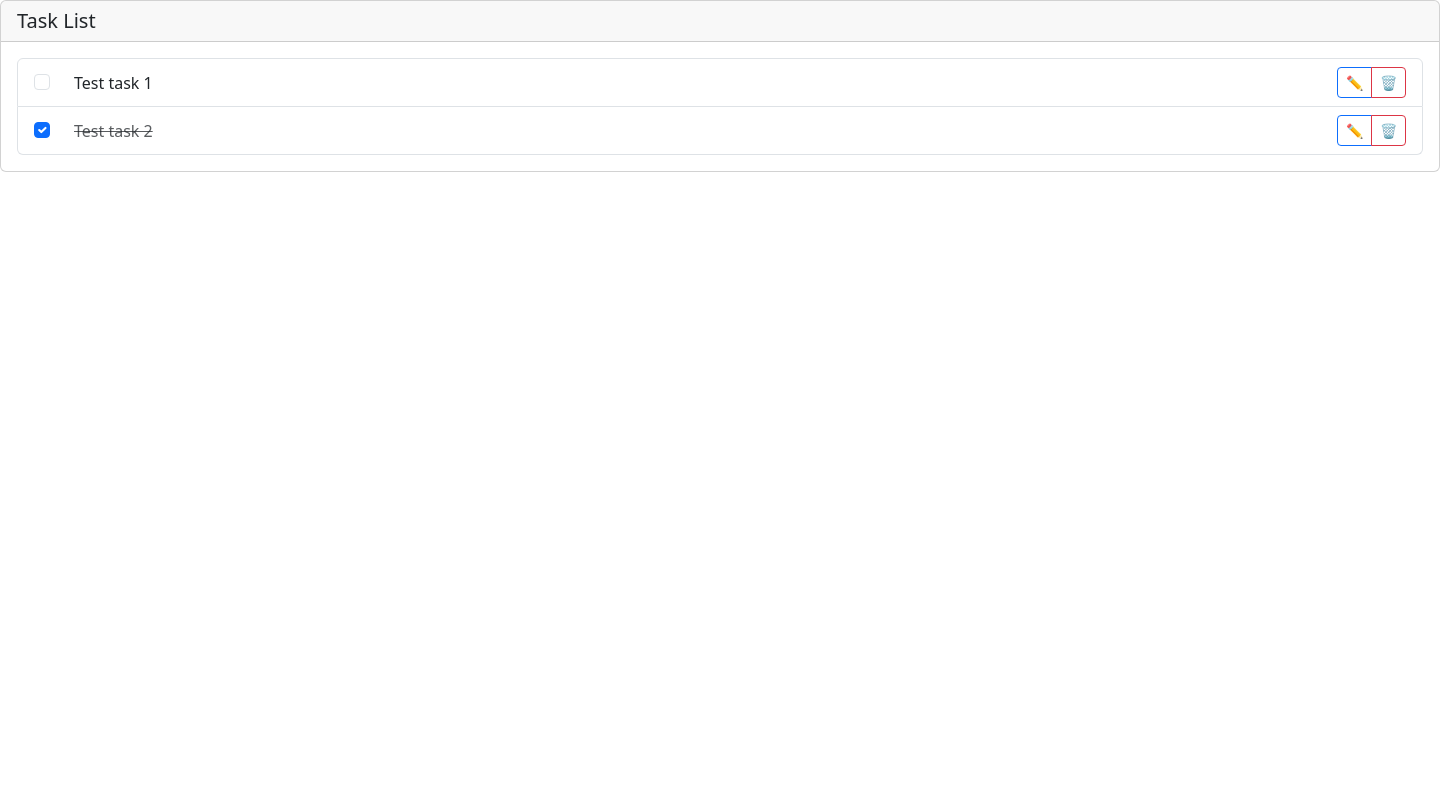
Scenario: TaskList › Edit Functionality › should open edit modal when edit button is clicked
// Click edit button to open modal
Click the button titled "Edit task" in the row of "Test task 1".
click(1354, 82)  # box [1337,67,1372,98]
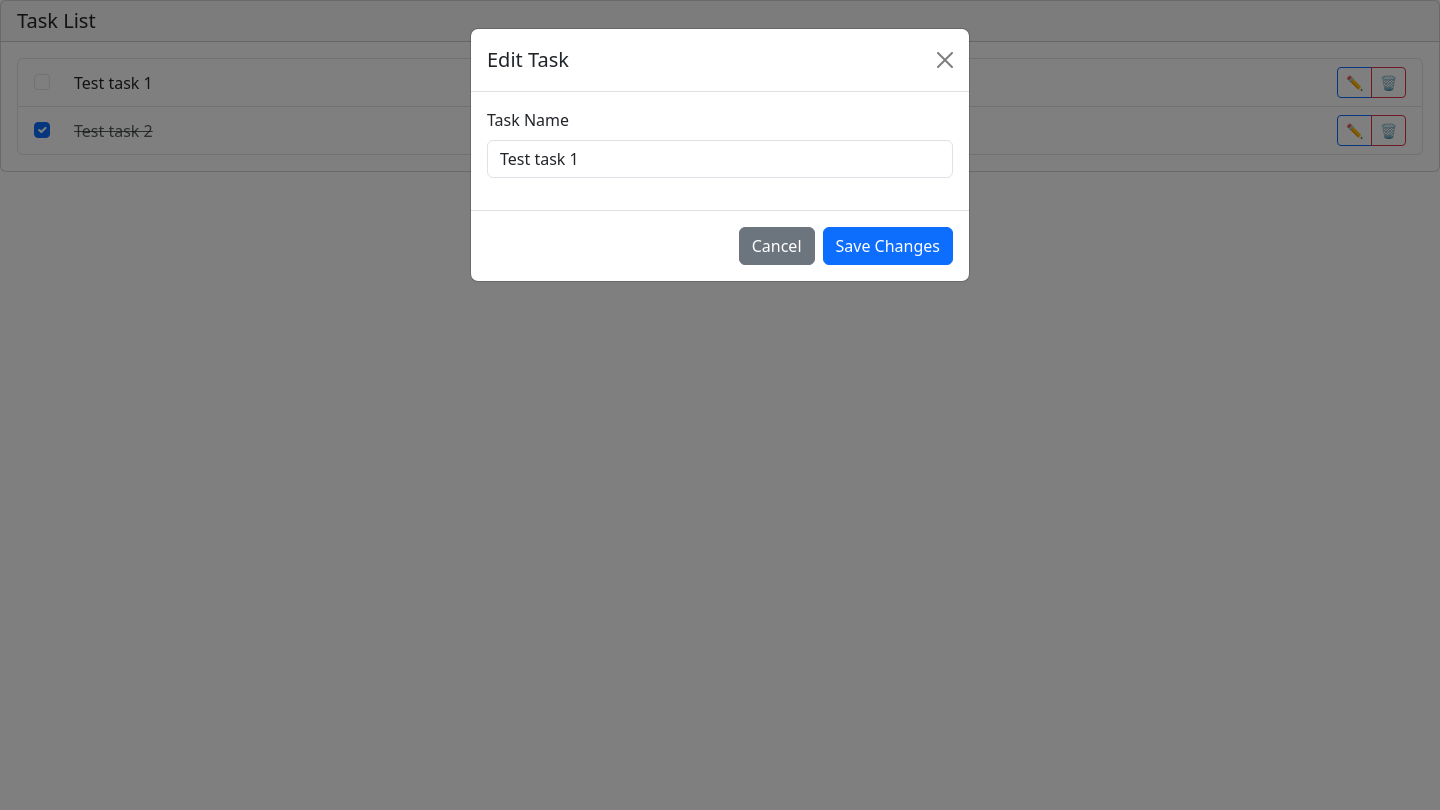
Expected: the heading "Edit Task" is shown, [487,45,569,75]
Expected: the field showing "Test task 1" is shown, [487,140,953,178]
